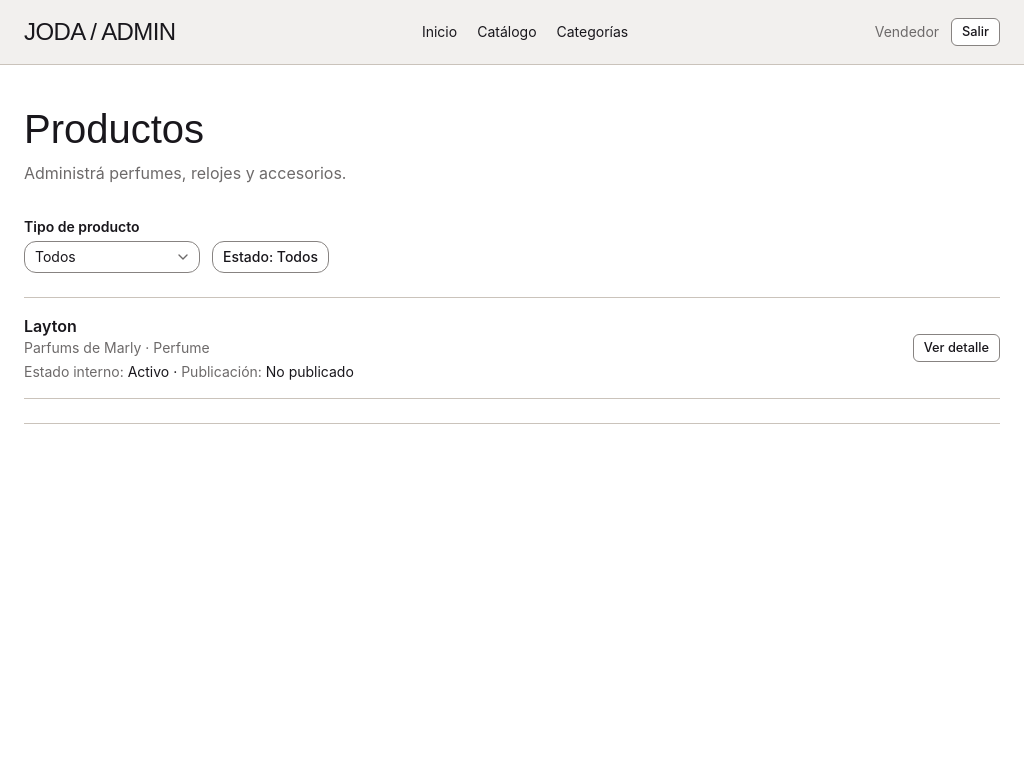
Test: docs/backlog.md WP-E04 · Dialog, Select y Popover en un flujo consumidor › filtra el catálogo por tipo y estado y abre el detalle del producto
Expected: the text "Layton" is shown, [24,316,77,336]
Click the dropdown named "Tipo de producto": x=112, y=257 [24,241,200,273]
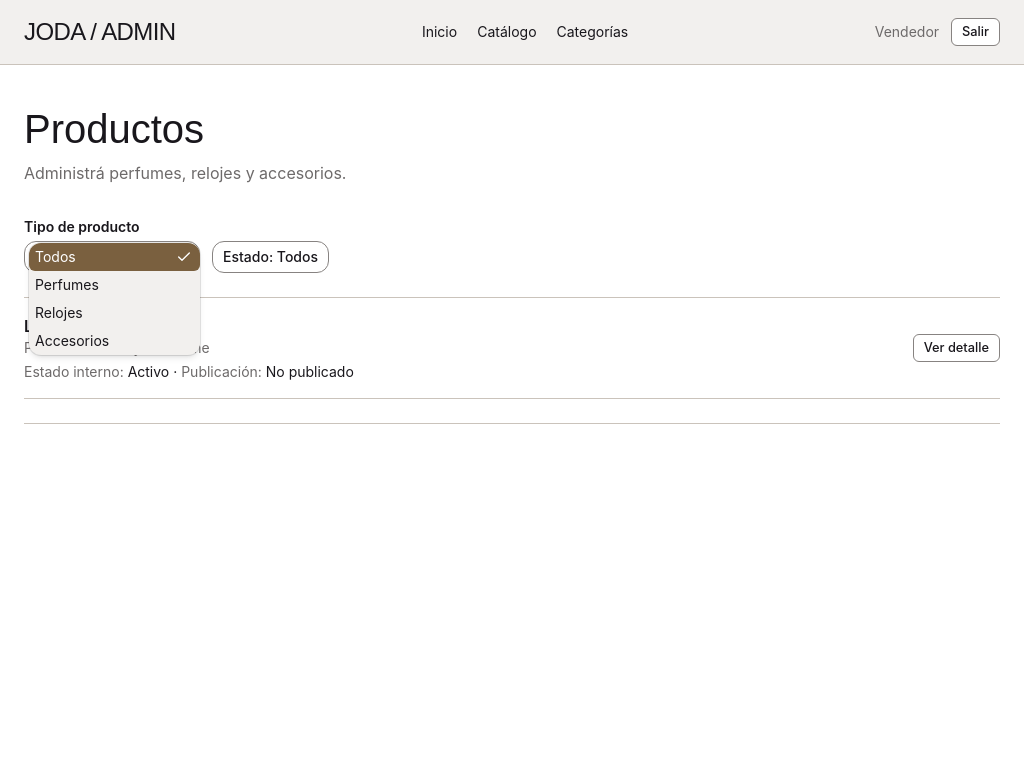
Click the option "Perfumes": x=67, y=284 [35,276,99,293]
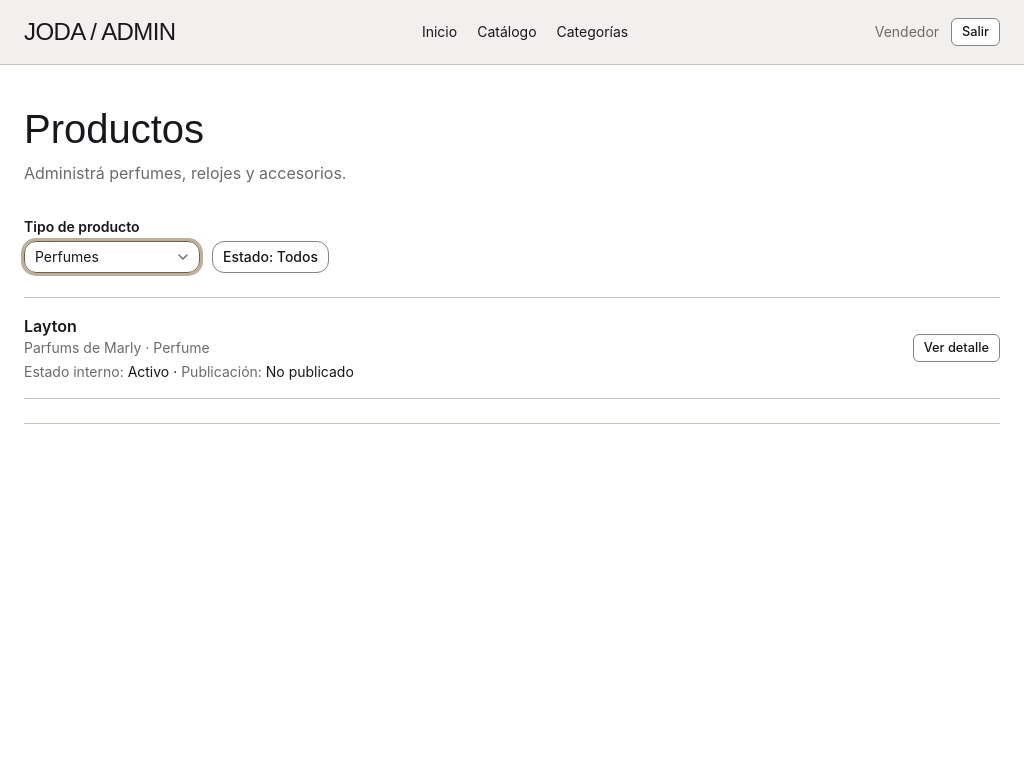
Click the button "Estado: Todos": x=270, y=257 [212,241,329,273]
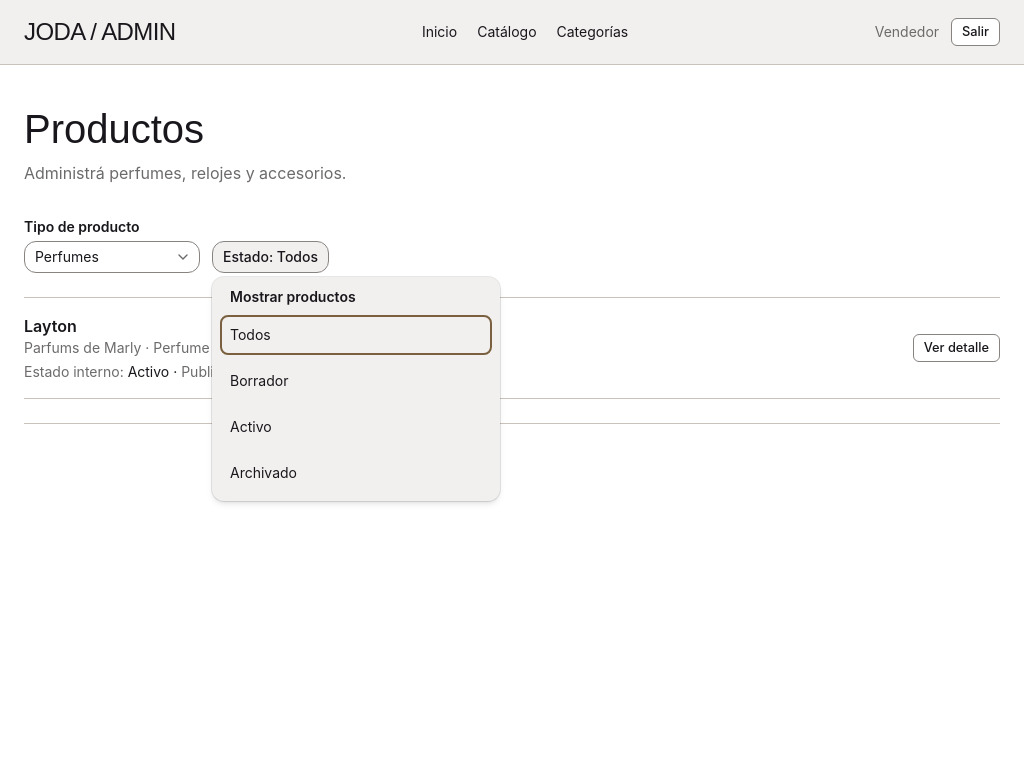
Click the button "Activo": x=251, y=426 [222,409,490,445]
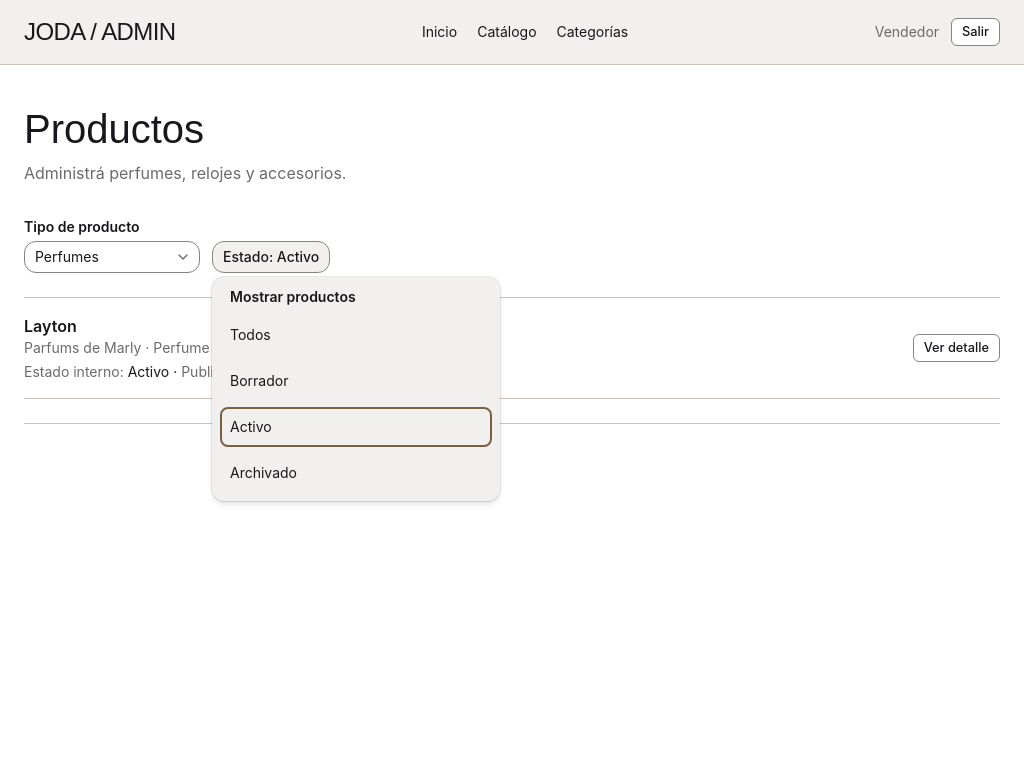
Click the button "Ver detalle": x=956, y=348 [913,334,1000,362]
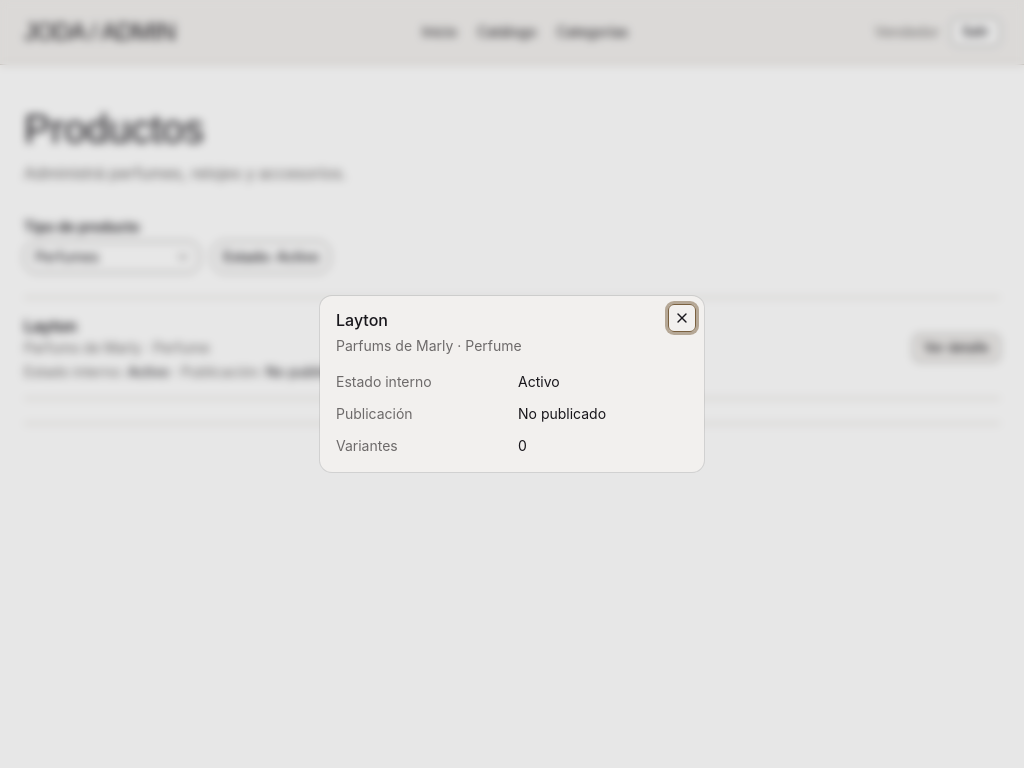
Expected: the dialog is shown, [320,296,704,472]
Expected: the heading "Layton" is shown, [336,310,388,330]
